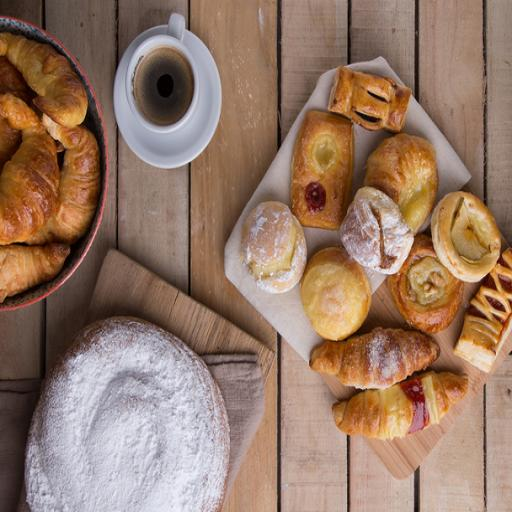bolleria: (26, 318, 229, 511), (27, 116, 100, 244), (332, 372, 468, 439), (0, 94, 59, 244), (0, 33, 87, 127), (310, 328, 440, 389), (291, 111, 354, 230), (364, 134, 438, 234), (388, 235, 463, 333), (454, 249, 511, 372), (300, 248, 371, 339), (341, 187, 413, 275), (431, 192, 501, 281), (241, 202, 306, 292), (328, 66, 410, 133), (0, 244, 69, 302)
